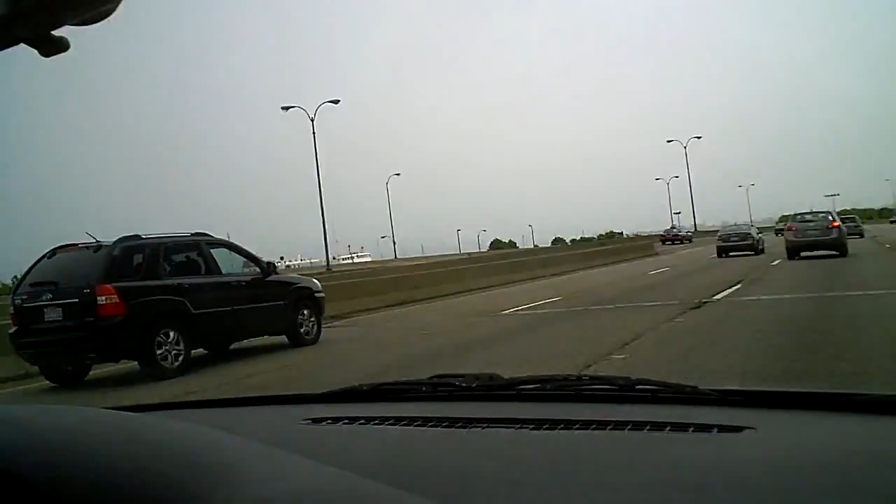car: (6, 229, 325, 389), (781, 208, 851, 262), (713, 221, 767, 258), (770, 212, 810, 239), (828, 213, 865, 241), (657, 225, 694, 247)
